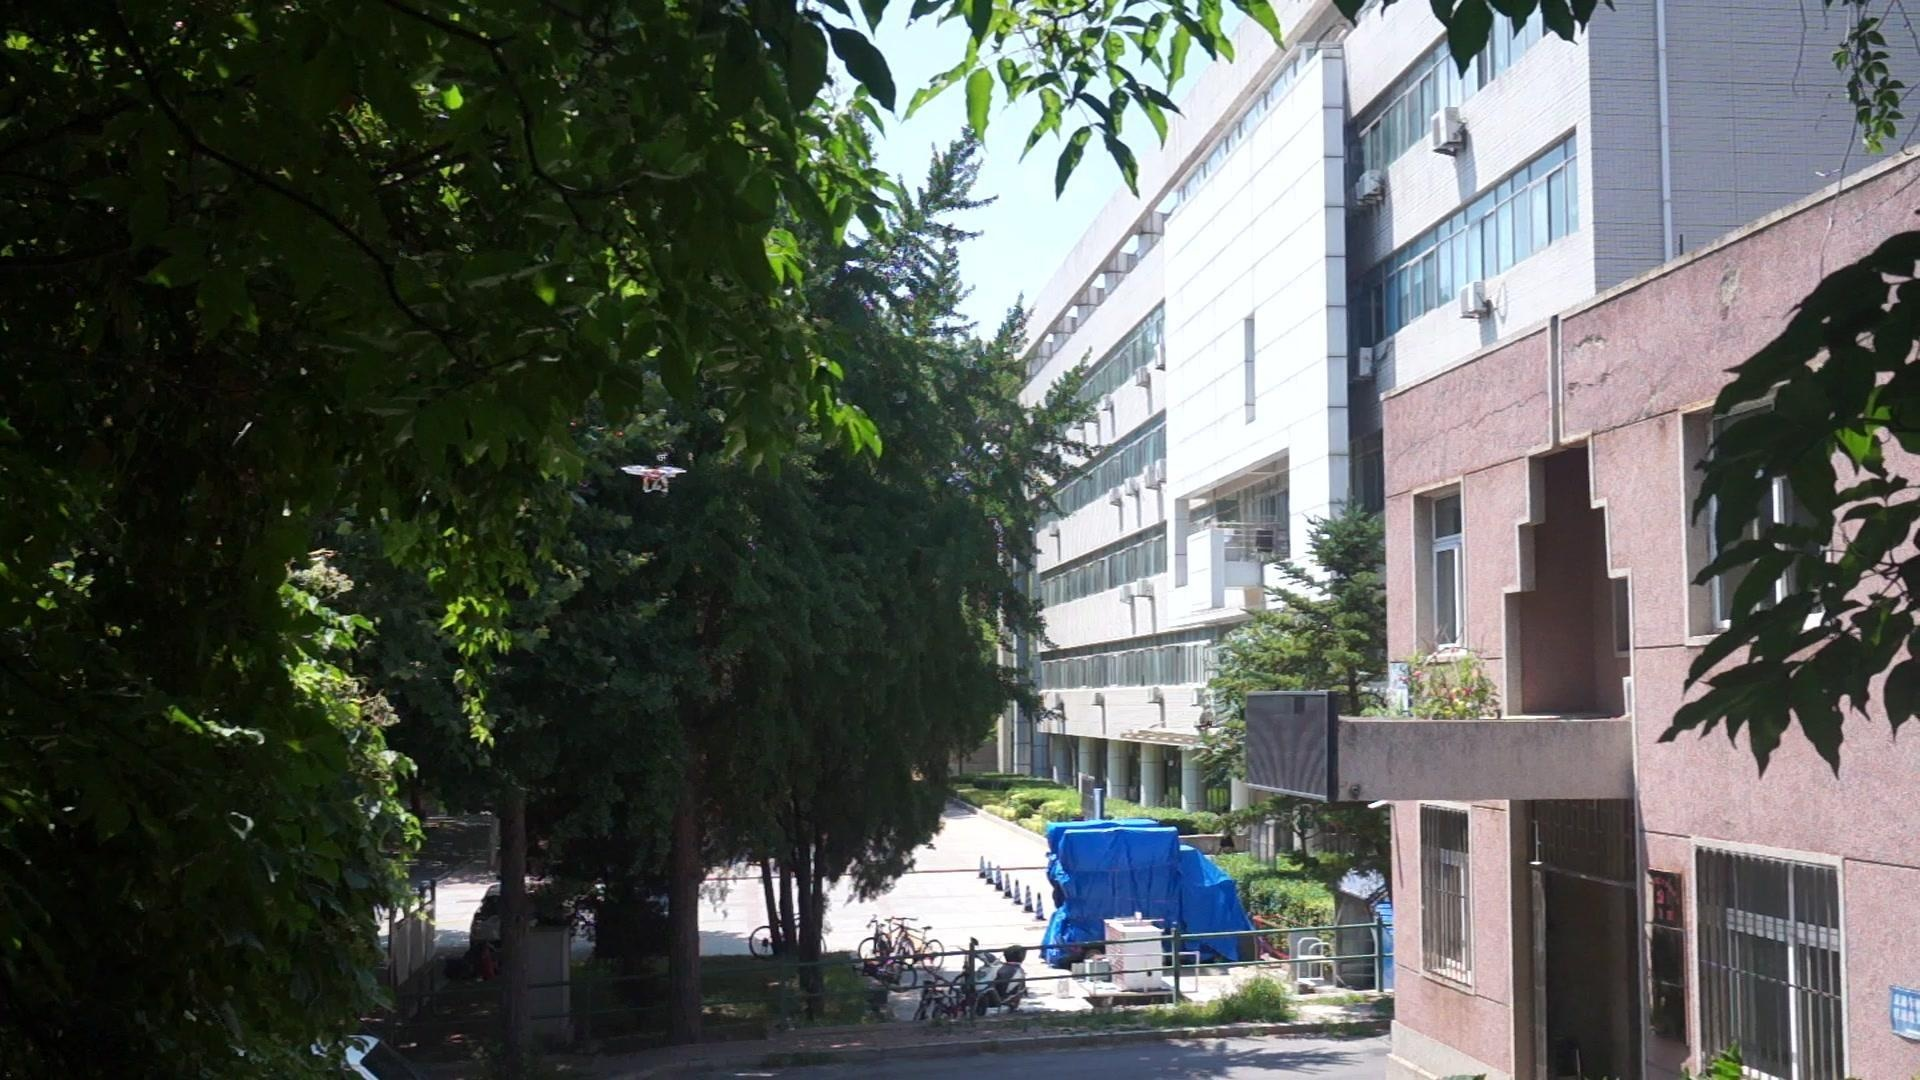UAV: (622, 465, 688, 496)
